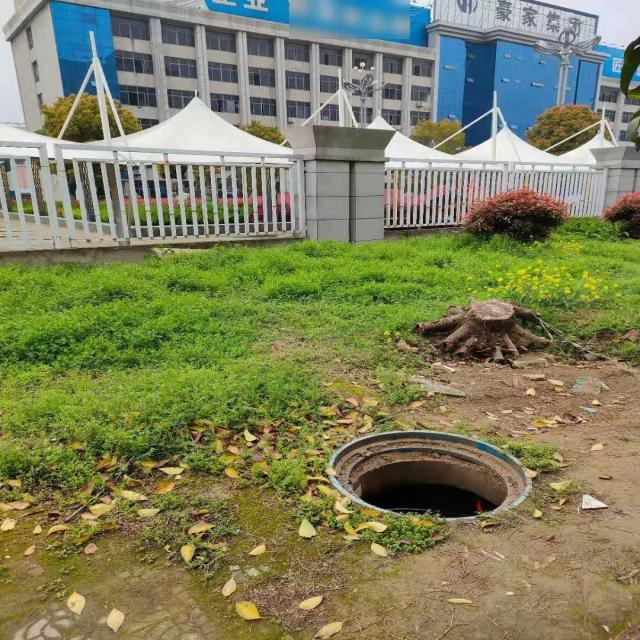Faulty: (322, 429, 528, 524)
